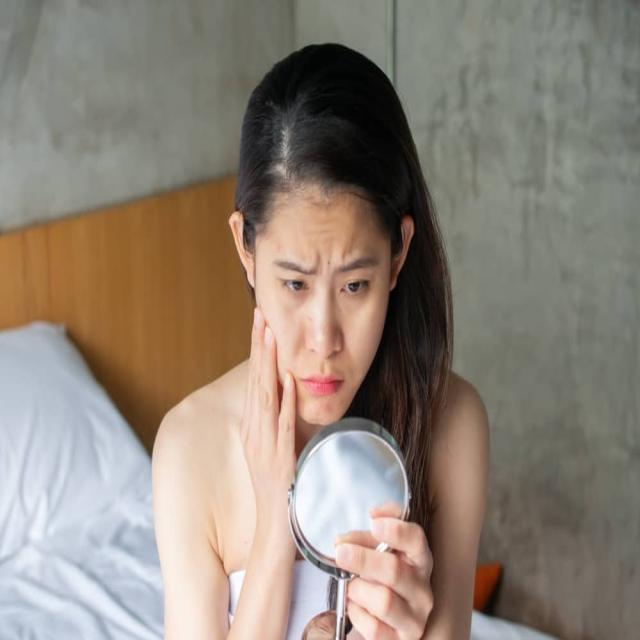Dry-Skin: (286, 200, 365, 268)
